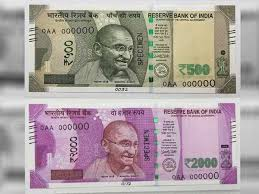fiveHundred: (38, 21, 217, 82)
